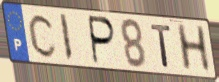8: (120, 17, 148, 70)
C: (27, 13, 59, 60)
H: (174, 22, 213, 73)
I: (58, 13, 75, 64)
P: (88, 14, 118, 67)
T: (149, 22, 174, 70)
